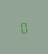zero: (19, 20, 27, 33)
